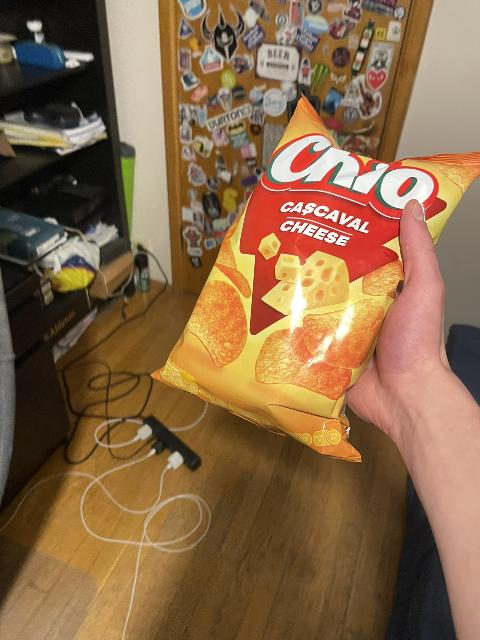Chio Cascaval 125g: (145, 94, 480, 464)
